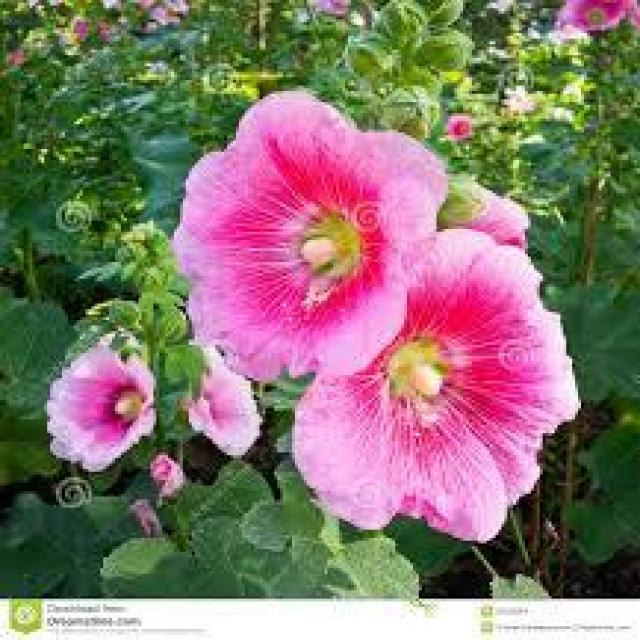organic waste: (280, 226, 575, 541), (170, 88, 423, 381), (44, 346, 160, 471)
